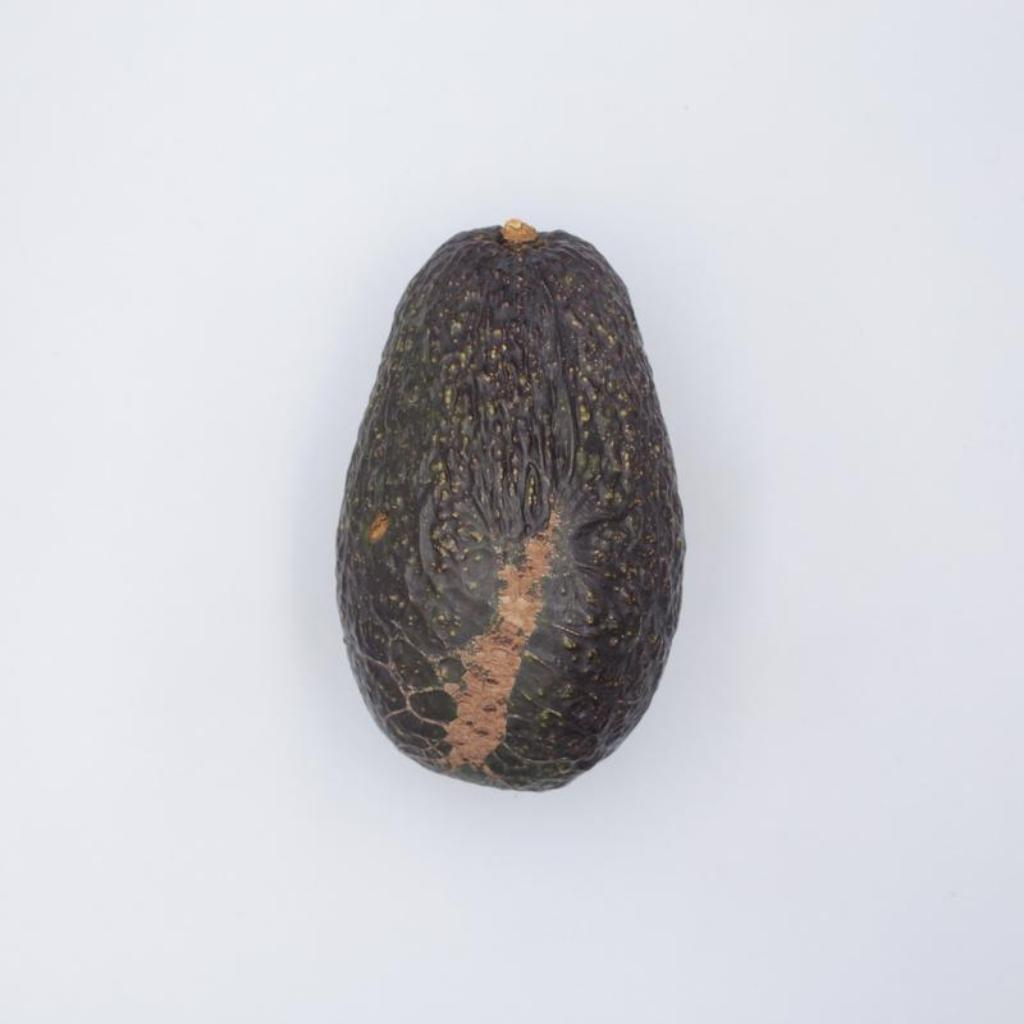scab: (335, 225, 684, 790)
